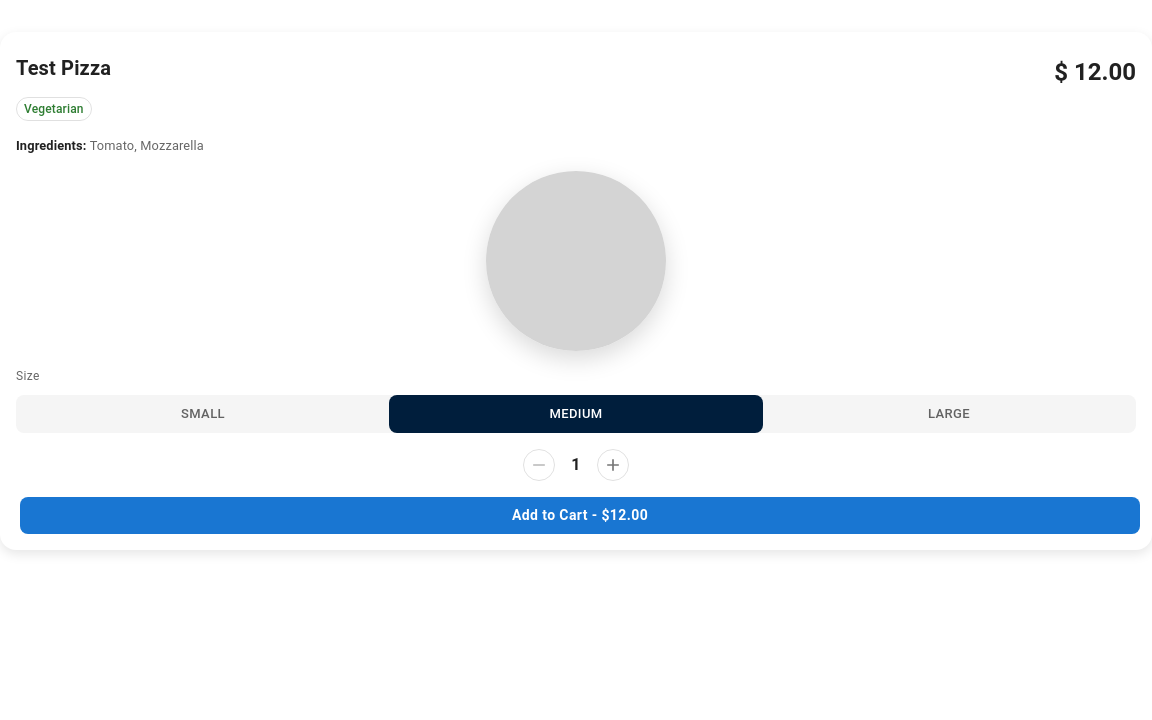
PizzaCard › handles add to cart interaction
# Click Add to Cart
Click the button "Add to Cart - $12.00" at (580, 516), box x1=20 y1=497 x2=1140 y2=534
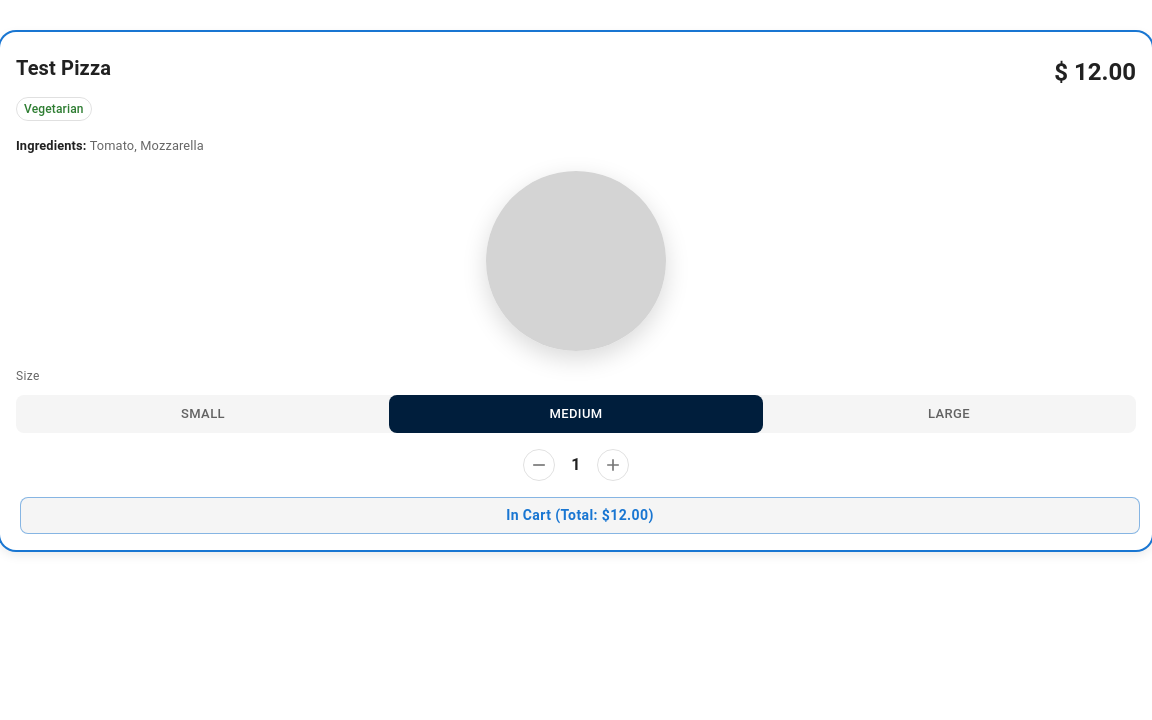
Expected: the text "Test Pizza" is shown, x1=16 y1=56 x2=111 y2=80
Expected: the button "In Cart (Total: $12.00)" is shown, x1=20 y1=497 x2=1140 y2=534
